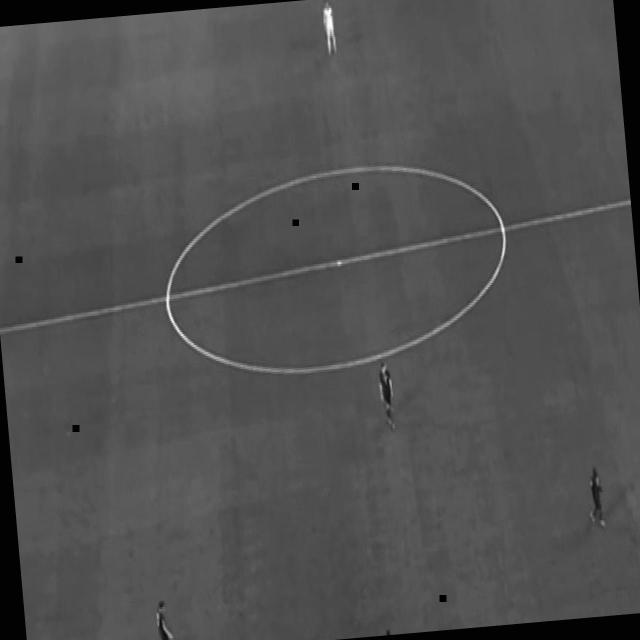player-white: (584, 463, 608, 531), (376, 360, 398, 434), (320, 0, 339, 58), (152, 598, 175, 640)
